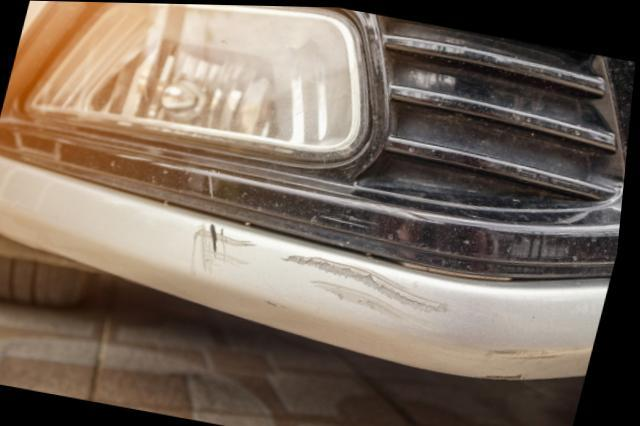scratch: (284, 248, 462, 320), (306, 195, 447, 235), (195, 218, 260, 282), (484, 338, 565, 381)
